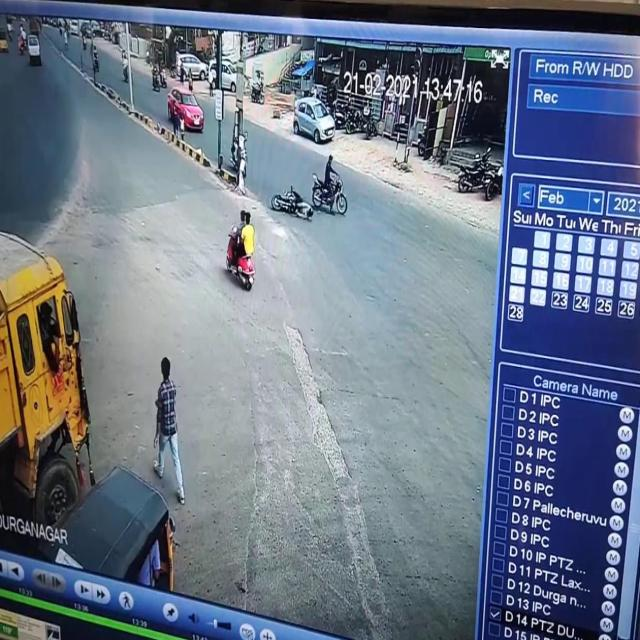accident: (266, 174, 324, 234)
